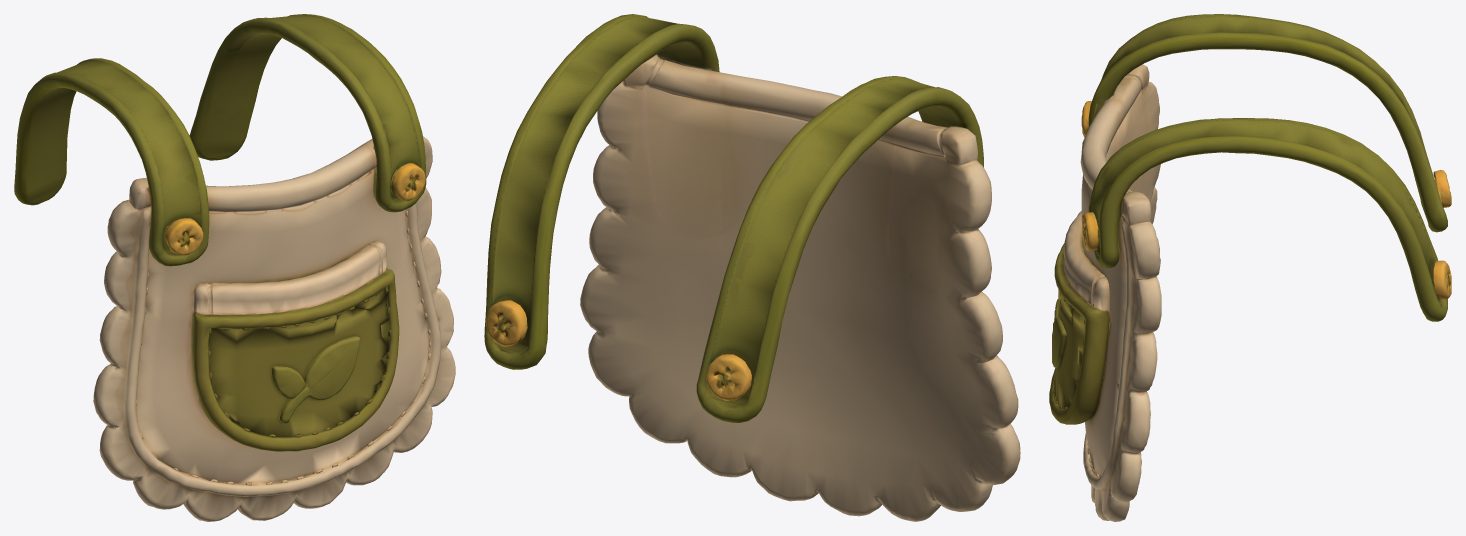
Rendered from mem_ac_apron.fbx.
3 views of the same model, side by side, from view 1: azimuth 30°, elevation 25°; view 2: azimuth 150°, elevation 25°; view 3: azimuth 270°, elevation 25° (orthographic). The views are drawn at different scales.
Visible parts, largest first — view 1: tripo_node_b0ec5ff5-72f4-4695-9882-5684214d8ae2; view 2: tripo_node_b0ec5ff5-72f4-4695-9882-5684214d8ae2; view 3: tripo_node_b0ec5ff5-72f4-4695-9882-5684214d8ae2.
Part boxes in pixels (left/top/right/bottom): tripo_node_b0ec5ff5-72f4-4695-9882-5684214d8ae2: left=14, top=14, right=455, bottom=521; tripo_node_b0ec5ff5-72f4-4695-9882-5684214d8ae2: left=484, top=14, right=1020, bottom=521; tripo_node_b0ec5ff5-72f4-4695-9882-5684214d8ae2: left=1049, top=14, right=1451, bottom=521.
Size of the model in its own units: 0.9199 by 0.998 by 0.8809.
1 material, 1 textured.
